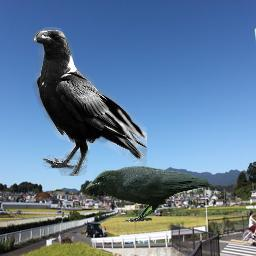Crow: (30, 27, 147, 176), (85, 166, 208, 223)
